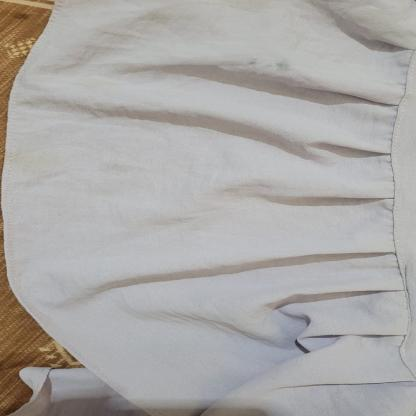spot: (239, 53, 298, 72)
